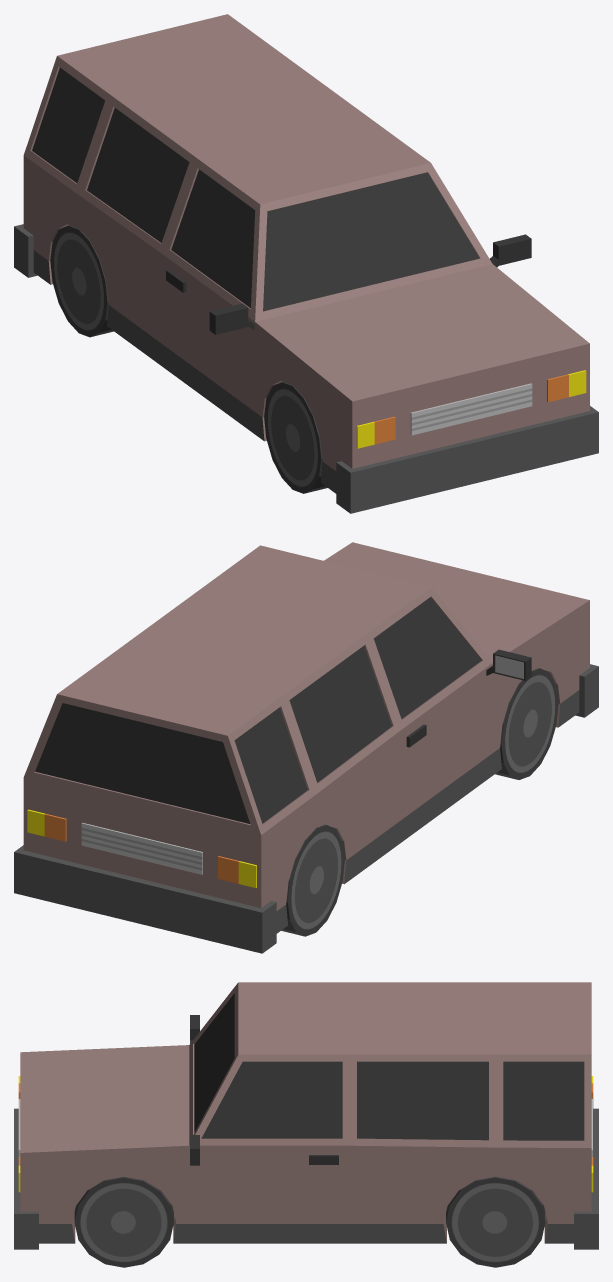
The model's file is jeep01_color01.fbx.
3 views of the same model, one above another, from view 1: azimuth 30°, elevation 25°; view 2: azimuth 150°, elevation 25°; view 3: azimuth 270°, elevation 25° (orthographic). The views are drawn at different scales.
Parts seen in each view (by area): view 1: Cube.199, Cube.391, Cube.298; view 2: Cube.199, Cube.391, Cube.298; view 3: Cube.199, Cube.390, Cube.389.
Boxes of the visible parts, <box> form: Cube.199: <box>14,14,598,513</box>; Cube.391: <box>50,225,113,337</box>; Cube.298: <box>264,381,327,493</box>; Cube.199: <box>14,542,598,953</box>; Cube.391: <box>281,824,344,936</box>; Cube.298: <box>495,668,558,779</box>; Cube.199: <box>14,982,598,1249</box>; Cube.390: <box>74,1176,173,1267</box>; Cube.389: <box>446,1176,545,1267</box>.
Bounding box in the file's own units: 272 × 188 × 502.
